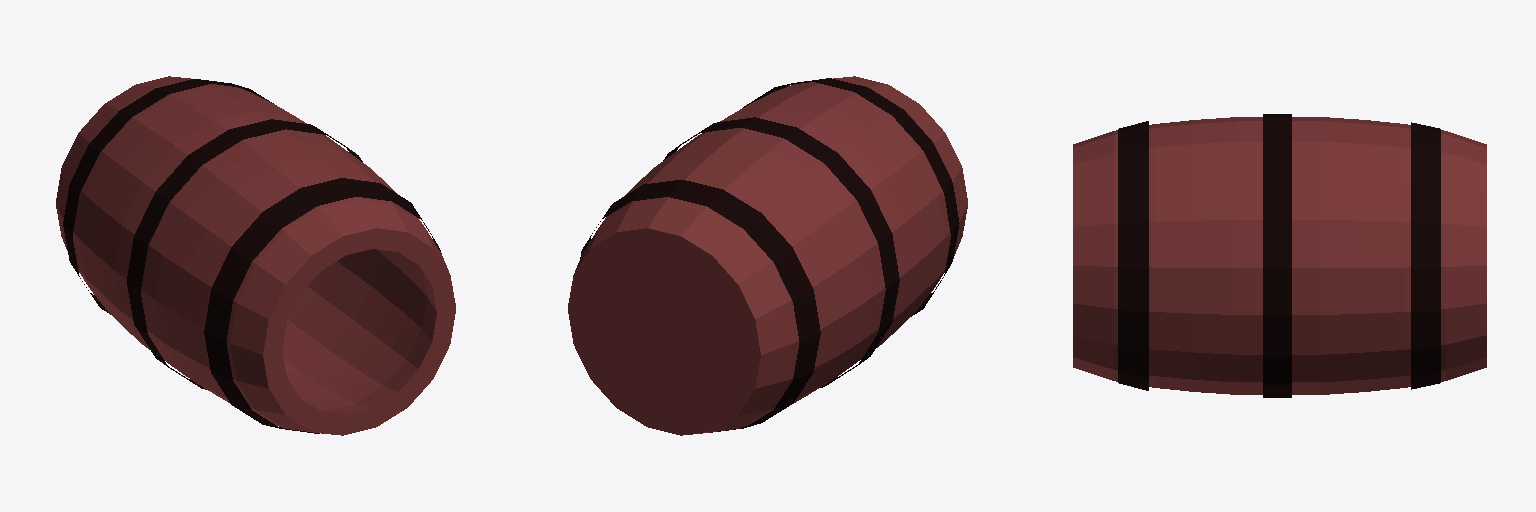
The model's file is barrel.obj.
3 views of the same model, side by side, from view 1: azimuth 30°, elevation 25°; view 2: azimuth 150°, elevation 25°; view 3: azimuth 270°, elevation 25° (orthographic).
Visible parts, largest first — view 1: outside, inside, ring, Cylinder08, Cylinder10, Cylinder09; view 2: outside, Cylinder09, Cylinder10, Cylinder08; view 3: outside, Cylinder10, Cylinder08, Cylinder09.
Part boxes in pixels (left/top/right/bottom): outside: left=56, top=76, right=448, bottom=435; inside: left=282, top=249, right=436, bottom=414; ring: left=263, top=228, right=455, bottom=435; Cylinder08: left=204, top=178, right=441, bottom=433; Cylinder10: left=127, top=119, right=362, bottom=389; Cylinder09: left=63, top=79, right=273, bottom=314; outside: left=568, top=76, right=967, bottom=435; Cylinder09: left=580, top=180, right=820, bottom=432; Cylinder10: left=663, top=117, right=899, bottom=387; Cylinder08: left=743, top=78, right=959, bottom=316; outside: left=1073, top=117, right=1486, bottom=394; Cylinder10: left=1263, top=114, right=1291, bottom=397; Cylinder08: left=1118, top=121, right=1148, bottom=390; Cylinder09: left=1411, top=122, right=1440, bottom=389.
Bounding box in the file's own units: 0.6524 × 0.6425 × 0.9477.